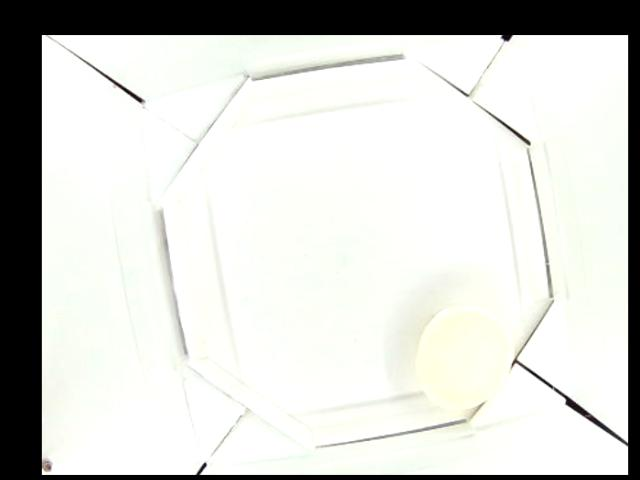Mooli: (416, 304, 515, 412)
